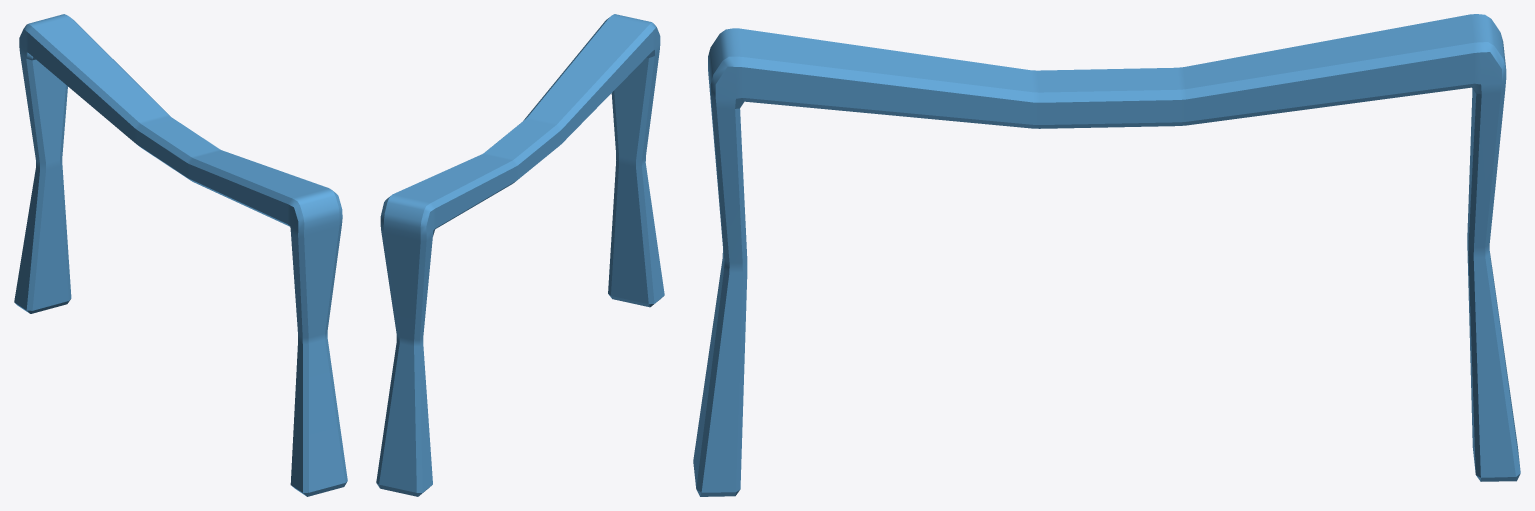
Rendered from railing1.fbx.
The picture shows the model from 3 angles, left to right: view 1: azimuth 30°, elevation 25°; view 2: azimuth 150°, elevation 25°; view 3: azimuth 270°, elevation 25°; orthographic projection. The views are drawn at different scales.
Parts seen in each view (by area): view 1: railing; view 2: railing; view 3: railing.
Part boxes in pixels (left/top/right/bottom): railing: left=14, top=14, right=347, bottom=496; railing: left=376, top=14, right=664, bottom=496; railing: left=693, top=14, right=1520, bottom=496.
Bounding box in the file's own units: 1.48 × 6.09 × 10.39.
